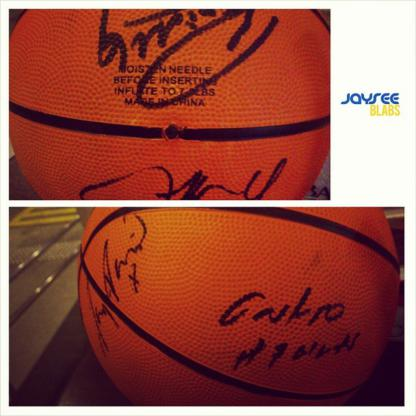Ball: (77, 206, 401, 406), (6, 9, 330, 198)
